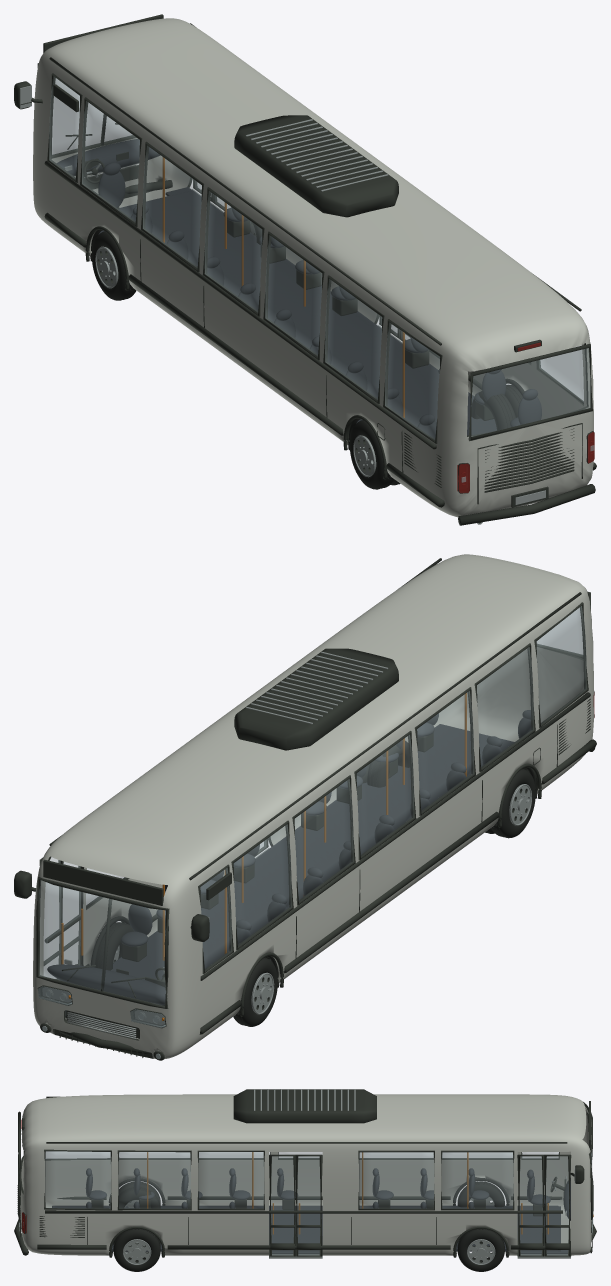
File: tour-bus.glb
3 renders of one model, top to bottom at view 1: azimuth 30°, elevation 25°; view 2: azimuth 150°, elevation 25°; view 3: azimuth 270°, elevation 25°, orthographic. The views are drawn at different scales.
Parts seen in each view (by area): view 1: body-paint, body-glass.001, body-black.001, body-interior, body-steel.001, wheel-1-rubber.001, wheel-3-rubber.001, wheel-0-rubber.001, body-amber, body-redlens, body-chrome; view 2: body-paint, body-glass.001, body-black.001, body-interior, body-steel.001, body-chrome, body-amber, entry-0-glass.001, entry-1-glass.001, wheel-1-rubber.001, wheel-0-rubber.001, body-clearlens (+2 smaller); view 3: body-paint, body-glass.001, body-black.001, body-interior, entry-0-glass.001, entry-1-glass.001, body-steel.001, wheel-3-rubber.001, wheel-2-rubber.001, entry-0-black.001, entry-1-black.001, wheel-1-rubber.001 (+4 smaller).
Part boxes in pixels (x1=…): body-paint: x1=33, y1=18, x2=593, y2=517; body-glass.001: x1=49, y1=77, x2=590, y2=439; body-black.001: x1=14, y1=14, x2=596, y2=525; body-interior: x1=57, y1=139, x2=541, y2=438; body-steel.001: x1=96, y1=119, x2=543, y2=523; wheel-1-rubber.001: x1=349, y1=420, x2=400, y2=489; wheel-3-rubber.001: x1=471, y1=384, x2=522, y2=430; wheel-0-rubber.001: x1=92, y1=231, x2=136, y2=300; body-amber: x1=162, y1=157, x2=404, y2=417; body-redlens: x1=457, y1=342, x2=594, y2=493; body-chrome: x1=20, y1=85, x2=545, y2=524; body-paint: x1=33, y1=554, x2=593, y2=1058; body-glass.001: x1=39, y1=606, x2=586, y2=1006; body-black.001: x1=14, y1=558, x2=596, y2=1060; body-interior: x1=47, y1=710, x2=531, y2=1024; body-steel.001: x1=113, y1=652, x2=530, y2=1012; body-chrome: x1=31, y1=848, x2=269, y2=1059; body-amber: x1=68, y1=693, x2=466, y2=1020; entry-0-glass.001: x1=44, y1=857, x2=60, y2=979; entry-1-glass.001: x1=62, y1=862, x2=80, y2=964; wheel-1-rubber.001: x1=485, y1=769, x2=535, y2=838; wheel-0-rubber.001: x1=233, y1=957, x2=277, y2=1026; body-clearlens: x1=37, y1=986, x2=165, y2=1058; body-paint: x1=20, y1=1094, x2=591, y2=1255; body-glass.001: x1=45, y1=1151, x2=591, y2=1255; body-black.001: x1=14, y1=1089, x2=596, y2=1262; body-interior: x1=52, y1=1168, x2=570, y2=1254; entry-0-glass.001: x1=546, y1=1156, x2=568, y2=1255; entry-1-glass.001: x1=519, y1=1156, x2=542, y2=1255; body-steel.001: x1=19, y1=1089, x2=494, y2=1263; wheel-3-rubber.001: x1=113, y1=1228, x2=160, y2=1271; wheel-2-rubber.001: x1=457, y1=1228, x2=504, y2=1271; entry-0-black.001: x1=544, y1=1154, x2=571, y2=1256; entry-1-black.001: x1=517, y1=1154, x2=544, y2=1256; wheel-1-rubber.001: x1=119, y1=1181, x2=160, y2=1208.
Size of the model in its own units: 2.98 by 3.31 by 11.8.
Materials: 10 (1 with a texture image).
